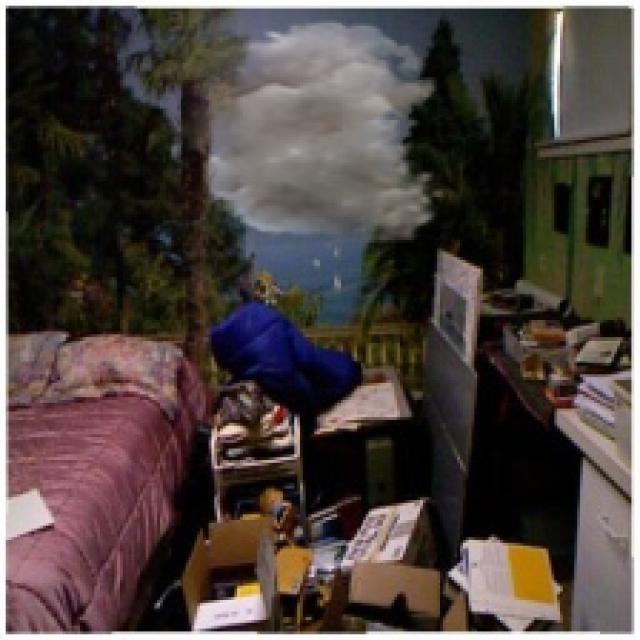Smoke: (168, 20, 446, 246)
